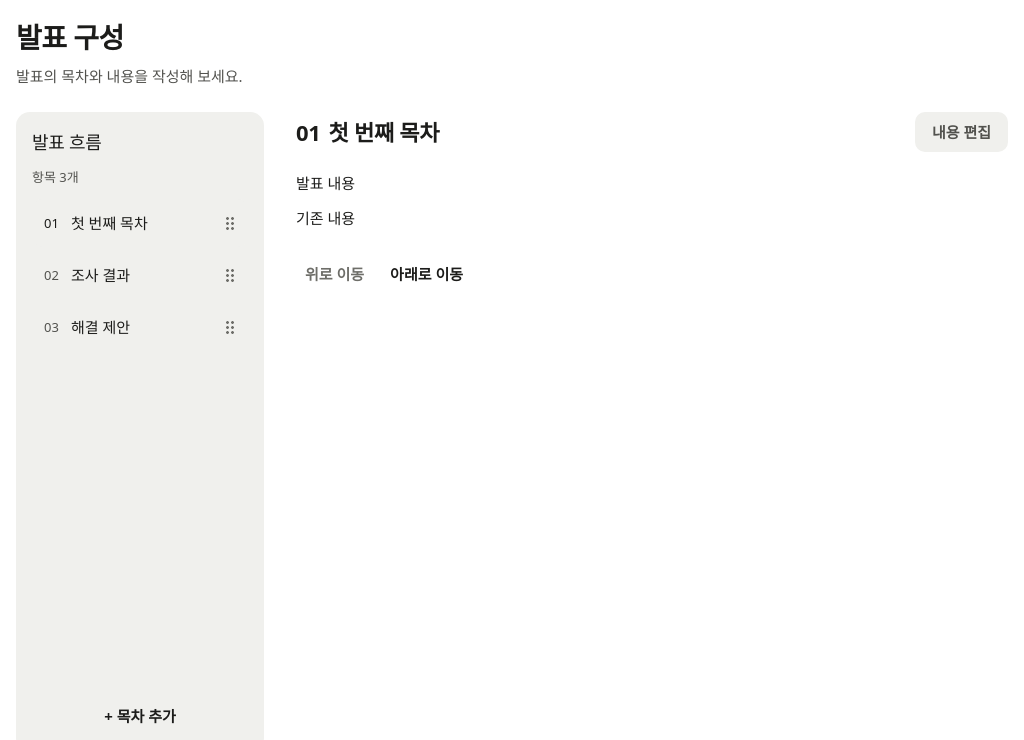
Test: 여러 칸 옮긴 목차는 목적지를 확인한 뒤 표시된 순서로 저장한다
The image size is (1024, 740).
Press the mouse on the button "03 해결 제안" at (140, 327), box [32,303,248,351]
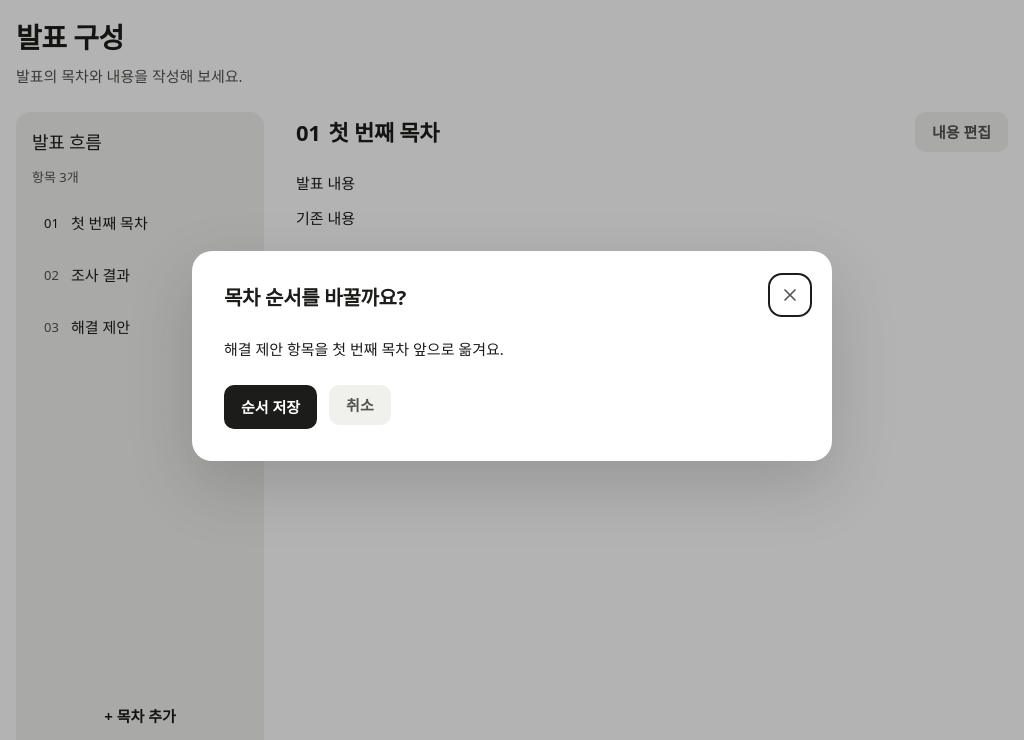
expect the text "해결 제안 항목을 첫 번째 목차 앞으로 옮겨요." is shown: met, box [224,339,504,359]
Click the button "순서 저장" at (271, 407), box [224,385,317,429]
(page scrolled)
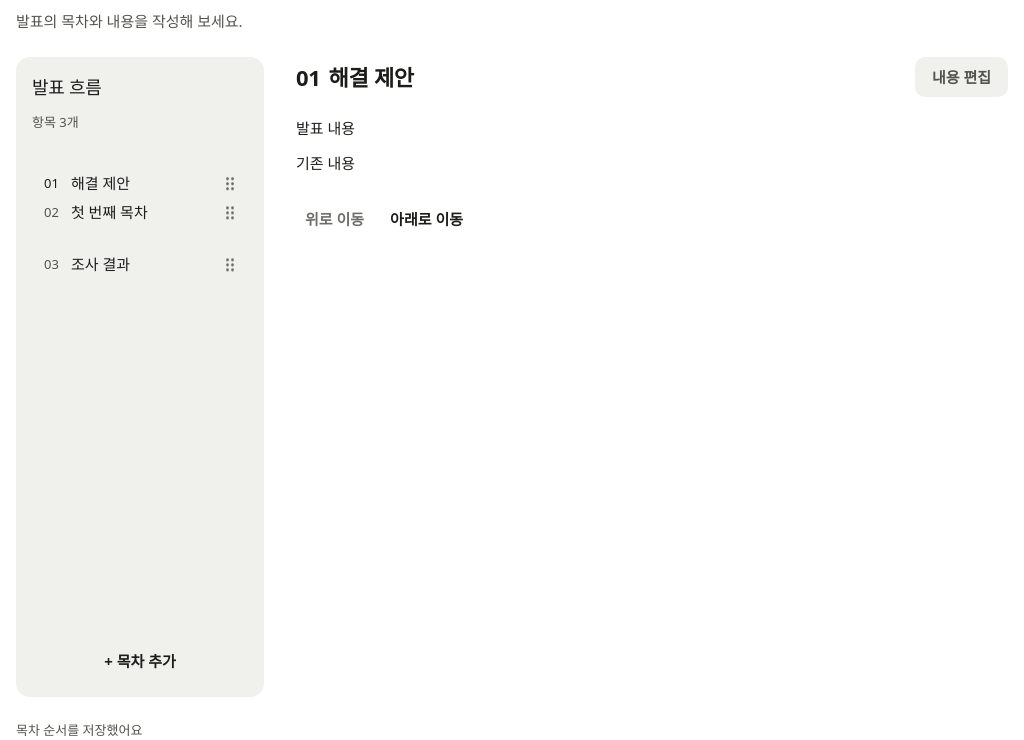
expect the text "목차 순서를 저장했어요" is shown: met, box [16,721,142,739]
